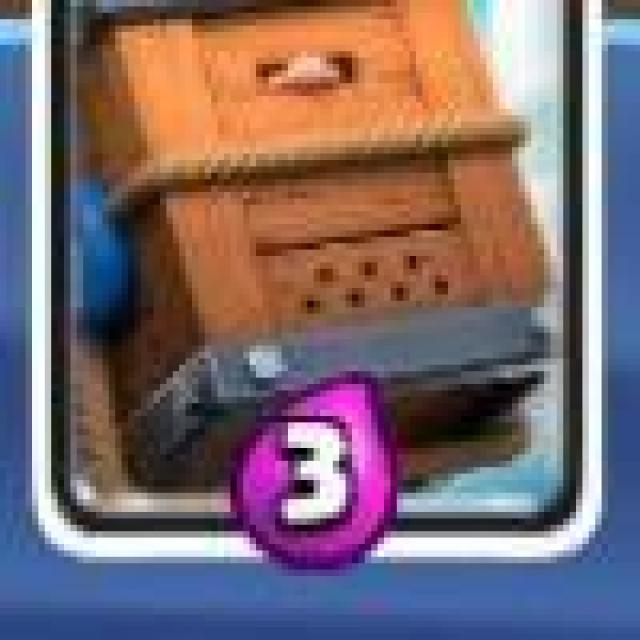Royal_Delivery: (32, 0, 610, 569)
